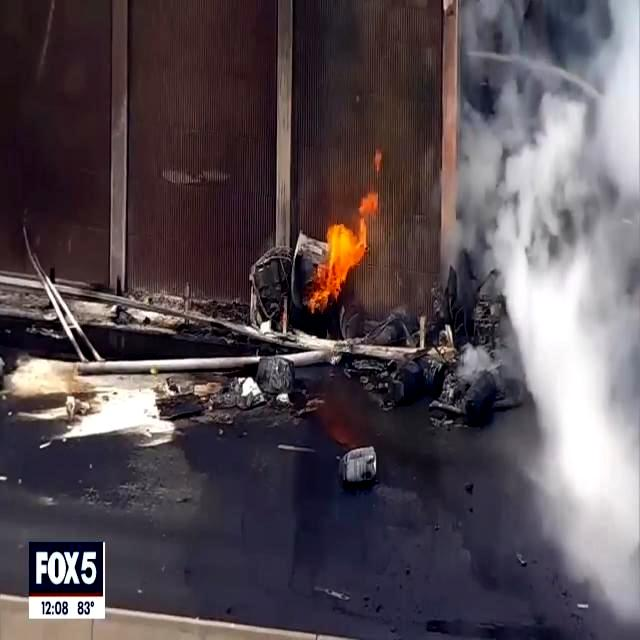fire: (306, 204, 370, 316)
